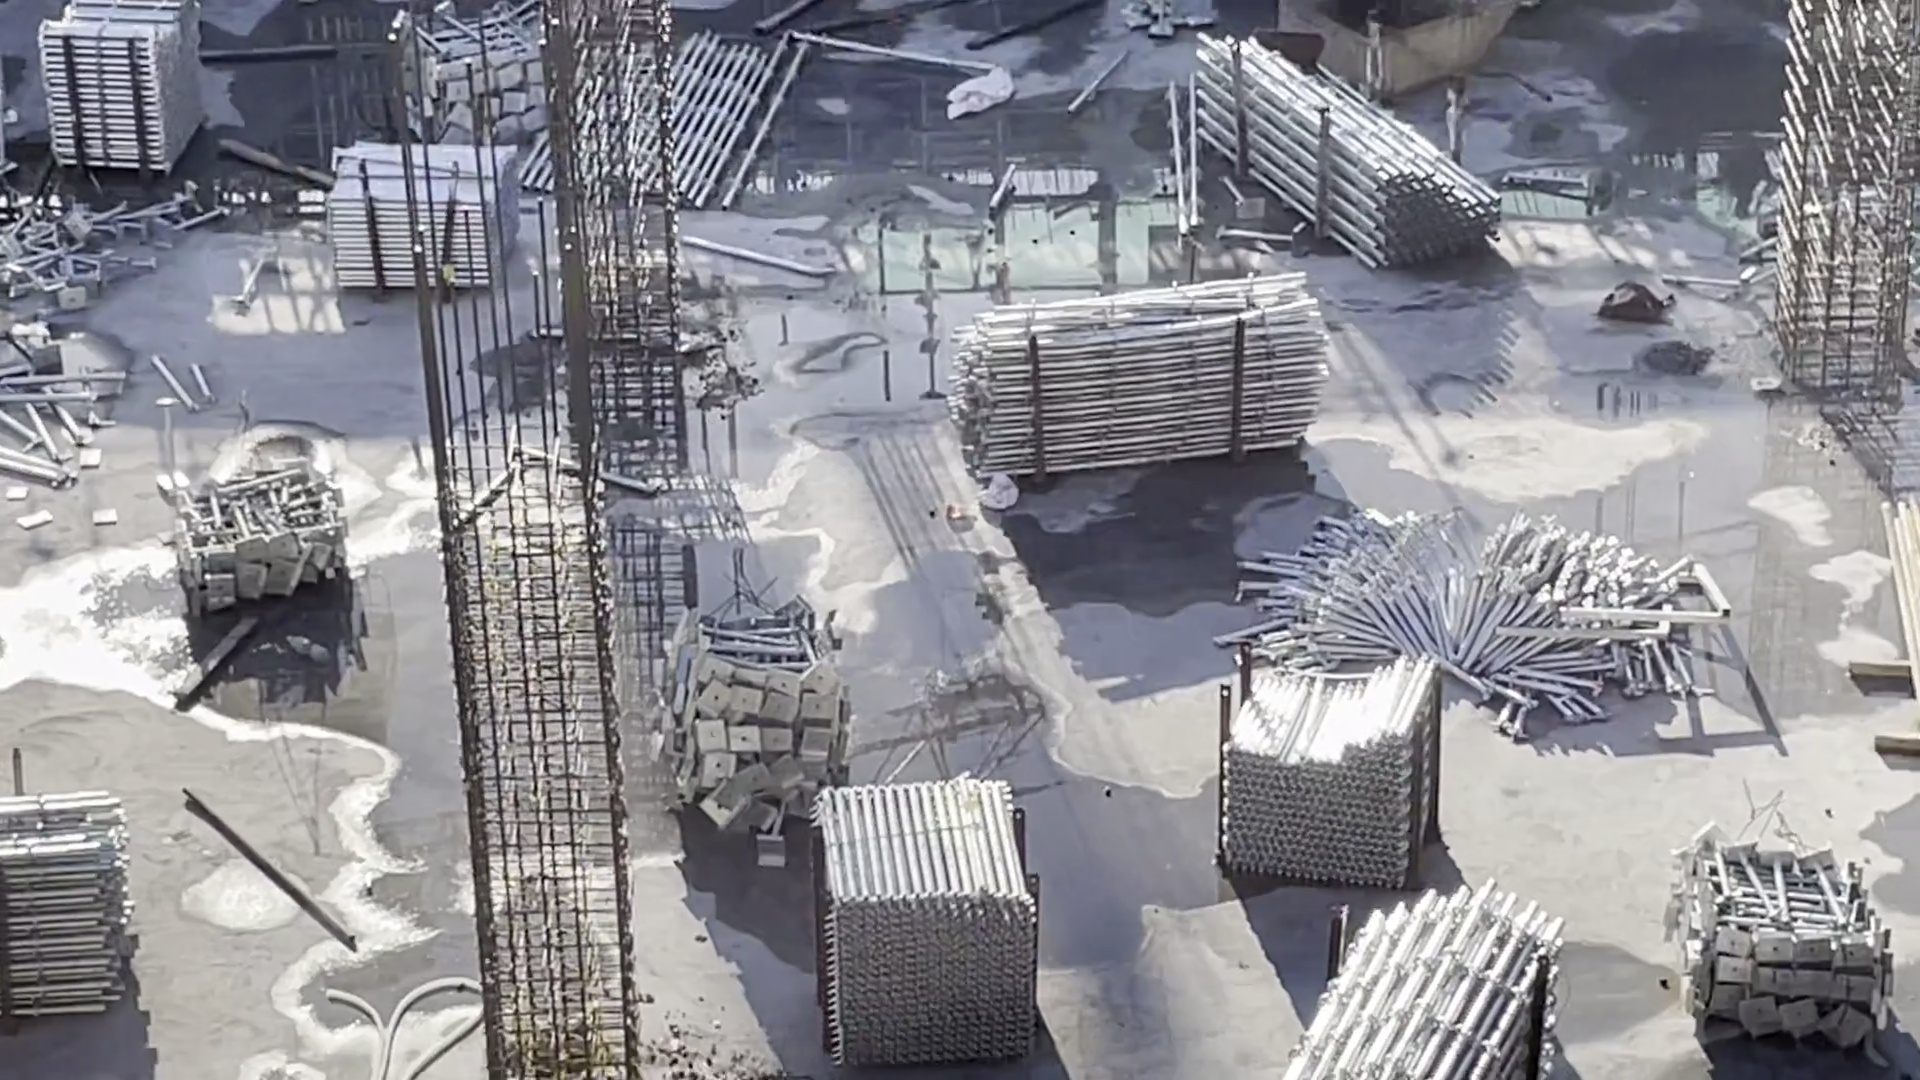hopper: (1288, 1, 1513, 104)
scaffold: (1254, 505, 1713, 711), (953, 266, 1335, 476), (1189, 28, 1505, 265), (811, 781, 1050, 1062), (1211, 647, 1452, 884), (1663, 828, 1895, 1047), (1286, 893, 1556, 1077), (663, 615, 862, 841), (324, 142, 538, 293), (1, 771, 124, 1009), (390, 11, 576, 152), (51, 1, 196, 175), (167, 469, 343, 589), (1, 204, 167, 294)
